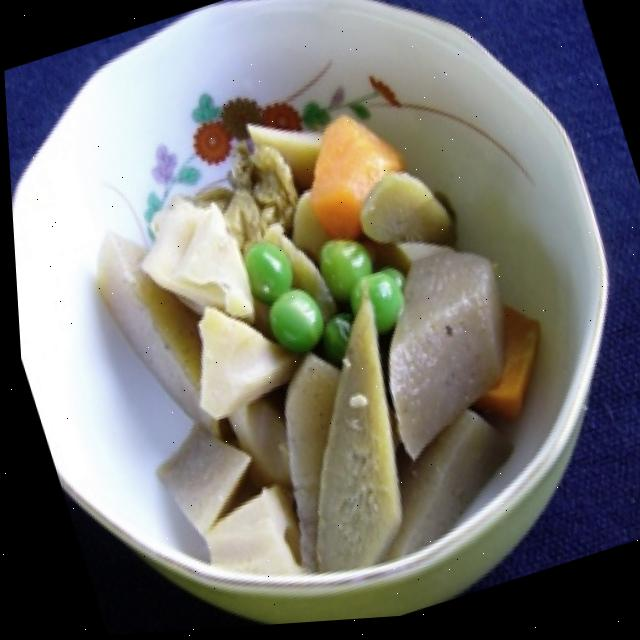鸡肉料理 含炸鸡: (39, 27, 596, 635)
